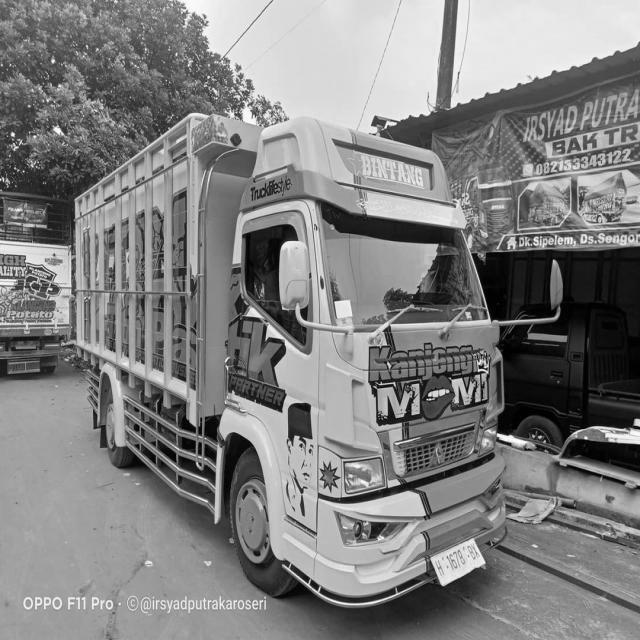truck: (199, 109, 544, 607), (1, 236, 77, 389)
